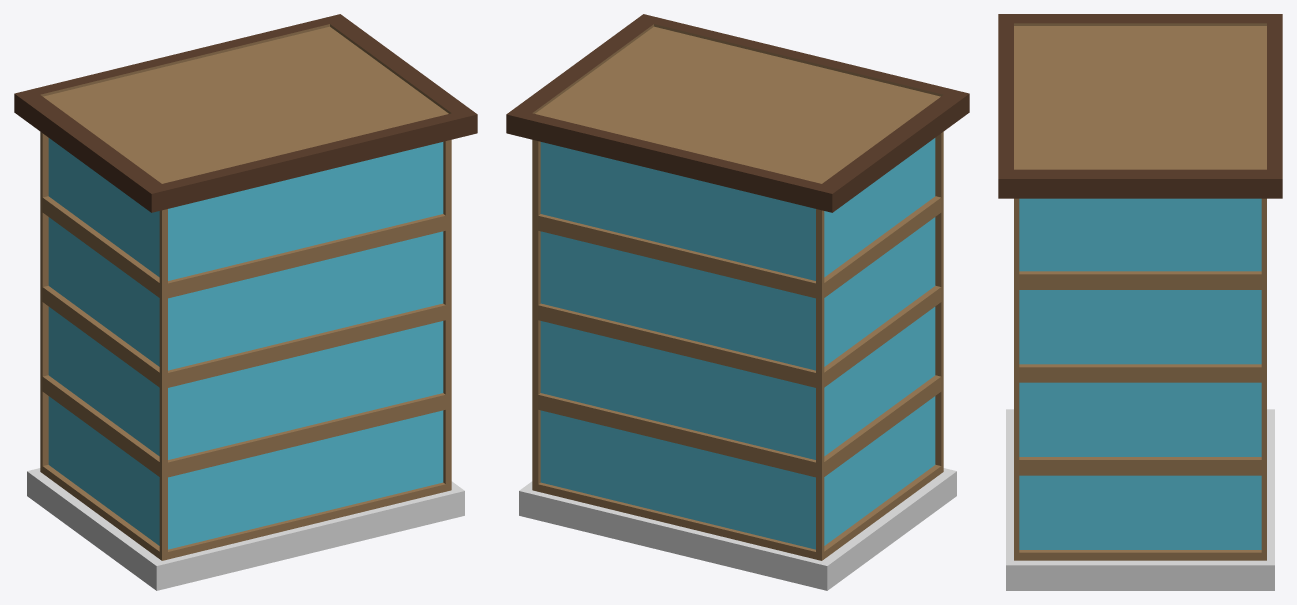
3 views of the same model, side by side, from view 1: azimuth 30°, elevation 25°; view 2: azimuth 150°, elevation 25°; view 3: azimuth 270°, elevation 25° (orthographic). The views are drawn at different scales.
Parts seen in each view (by area): view 1: Cube.001; view 2: Cube.001; view 3: Cube.001.
Part boxes in pixels (x1=…): Cube.001: x1=14, y1=14, x2=477, y2=590; Cube.001: x1=506, y1=14, x2=969, y2=590; Cube.001: x1=998, y1=14, x2=1282, y2=590.
Size of the model in its own units: 309 by 364 by 225.
